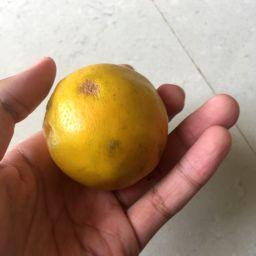Ripe: (47, 65, 167, 182)
